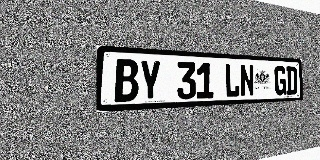1: (196, 62, 213, 99)
3: (177, 61, 196, 100)
B: (114, 59, 138, 102)
D: (286, 66, 297, 95)
G: (274, 66, 286, 95)
L: (225, 63, 240, 98)
N: (240, 64, 254, 97)
Y: (139, 60, 161, 101)
